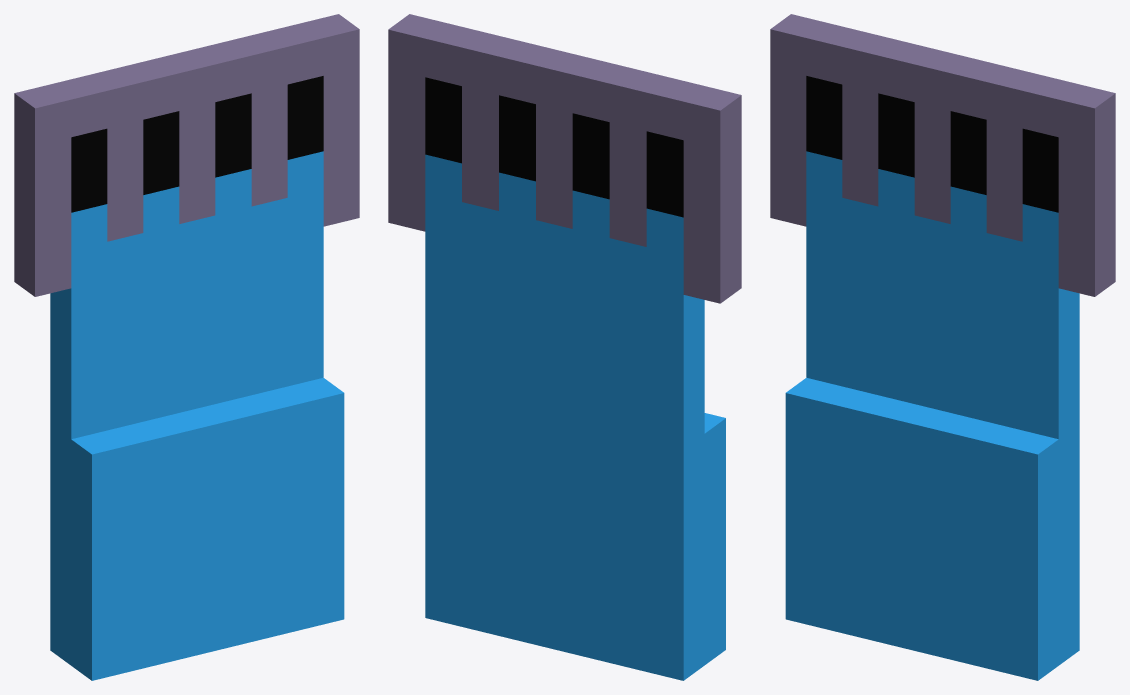
Rendered from wall_grate_a_passing_water.obj.
3 renders of one model, left to right at view 1: azimuth 30°, elevation 25°; view 2: azimuth 150°, elevation 25°; view 3: azimuth 330°, elevation 25°, orthographic. The views are drawn at different scales.
Bounding box in the file's own units: 0.9 × 1.5 × 0.2.
Materials: 1 (1 with a texture image).
